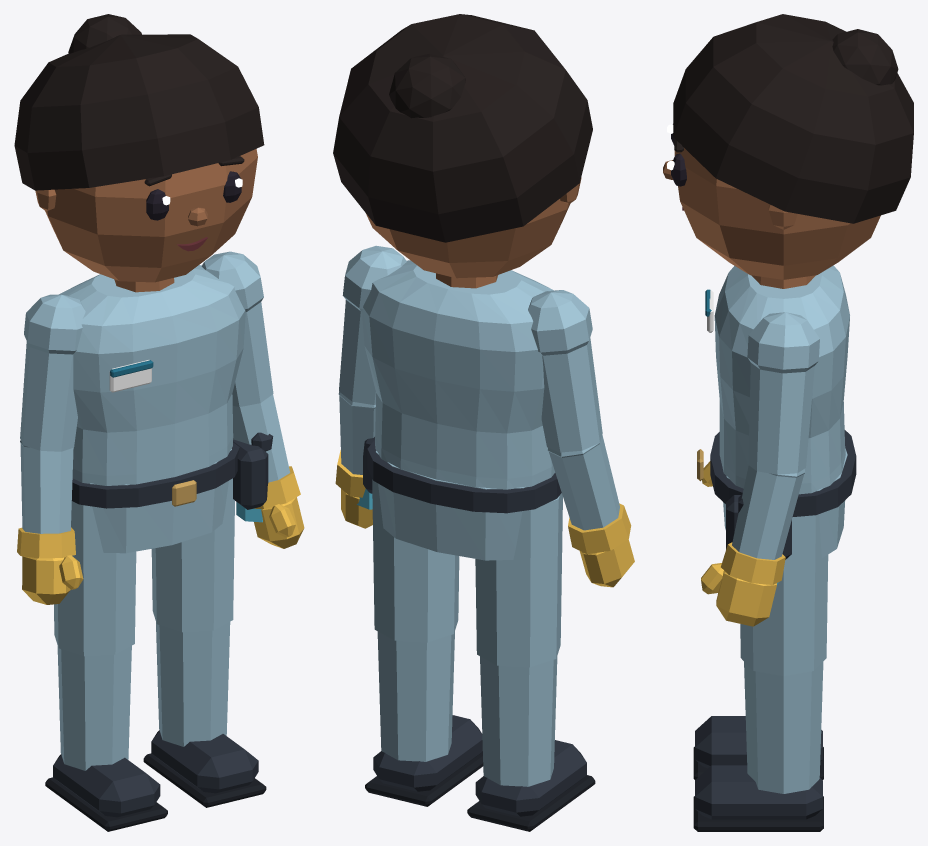
Rendered from rei_grundmodell.glb.
3 views of the same model, side by side, from view 1: azimuth 30°, elevation 25°; view 2: azimuth 150°, elevation 25°; view 3: azimuth 270°, elevation 25° (orthographic). The views are drawn at different scales.
Visible parts, largest first — view 1: haare, torso, kopf, bein_r, bein_l, arm_r, arm_l, schuh_l, schuh_r, becken, gürtel, accessoire_sprayholster (+4 smaller); view 2: haare, torso, bein_r, bein_l, arm_r, arm_l, becken, kopf, schuh_r, schuh_l, gürtel, hand_r (+3 smaller); view 3: haare, bein_l, torso, arm_l, kopf, schuh_l, gürtel, hand_l, schuh_r, becken, accessoire_sprayholster, gesicht (+1 smaller).
Part boxes in pixels (x1,y1,x2,y2): haare: [14, 14, 264, 190]; torso: [59, 265, 245, 485]; kopf: [35, 149, 257, 282]; bein_r: [54, 501, 136, 770]; bein_l: [151, 478, 234, 746]; arm_r: [17, 294, 85, 558]; arm_l: [201, 251, 300, 508]; schuh_l: [143, 730, 266, 807]; schuh_r: [45, 754, 167, 831]; becken: [89, 448, 231, 553]; gürtel: [71, 442, 239, 508]; accessoire_sprayholster: [233, 432, 273, 522]; haare: [333, 14, 592, 242]; torso: [362, 260, 555, 489]; bein_r: [475, 493, 562, 786]; bein_l: [372, 479, 459, 761]; arm_r: [528, 290, 631, 554]; arm_l: [335, 245, 406, 497]; becken: [376, 451, 525, 560]; kopf: [366, 177, 581, 278]; schuh_r: [467, 740, 595, 831]; schuh_l: [365, 715, 483, 806]; gürtel: [367, 440, 561, 513]; hand_r: [579, 539, 634, 587]; haare: [673, 14, 913, 223]; bein_l: [740, 514, 828, 793]; torso: [714, 265, 849, 494]; arm_l: [721, 312, 819, 584]; kopf: [674, 148, 880, 279]; schuh_l: [693, 765, 823, 831]; gürtel: [697, 430, 856, 516]; hand_l: [701, 563, 776, 626]; schuh_r: [693, 716, 823, 779]; becken: [723, 448, 847, 558]; accessoire_sprayholster: [726, 494, 791, 584]; gesicht: [663, 124, 686, 210].
Bounding box in the file's own units: 0.00962 × 0.0244 × 0.0073.
